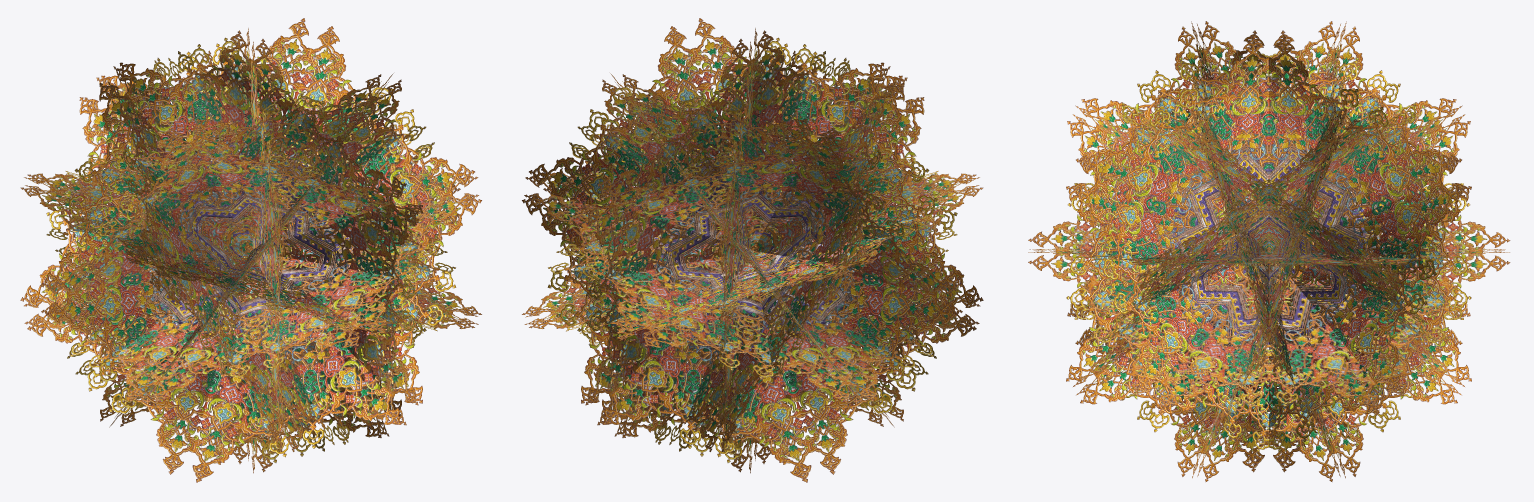
The model's file is GreatDodecahemicosahedron6.gltf.
3 views of the same model, side by side, from view 1: azimuth 30°, elevation 25°; view 2: azimuth 150°, elevation 25°; view 3: azimuth 270°, elevation 25° (orthographic).
Parts seen in each view (by area): view 1: GreatDodecahemicosahedron; view 2: GreatDodecahemicosahedron; view 3: GreatDodecahemicosahedron.
Part boxes in pixels (x1=…): GreatDodecahemicosahedron: x1=20, y1=18, x2=481, y2=482; GreatDodecahemicosahedron: x1=522, y1=18, x2=983, y2=482; GreatDodecahemicosahedron: x1=1028, y1=21, x2=1510, y2=481.
Bounding box in the file's own units: 2 × 2 × 2.
Materials: 1 (1 with a texture image).
